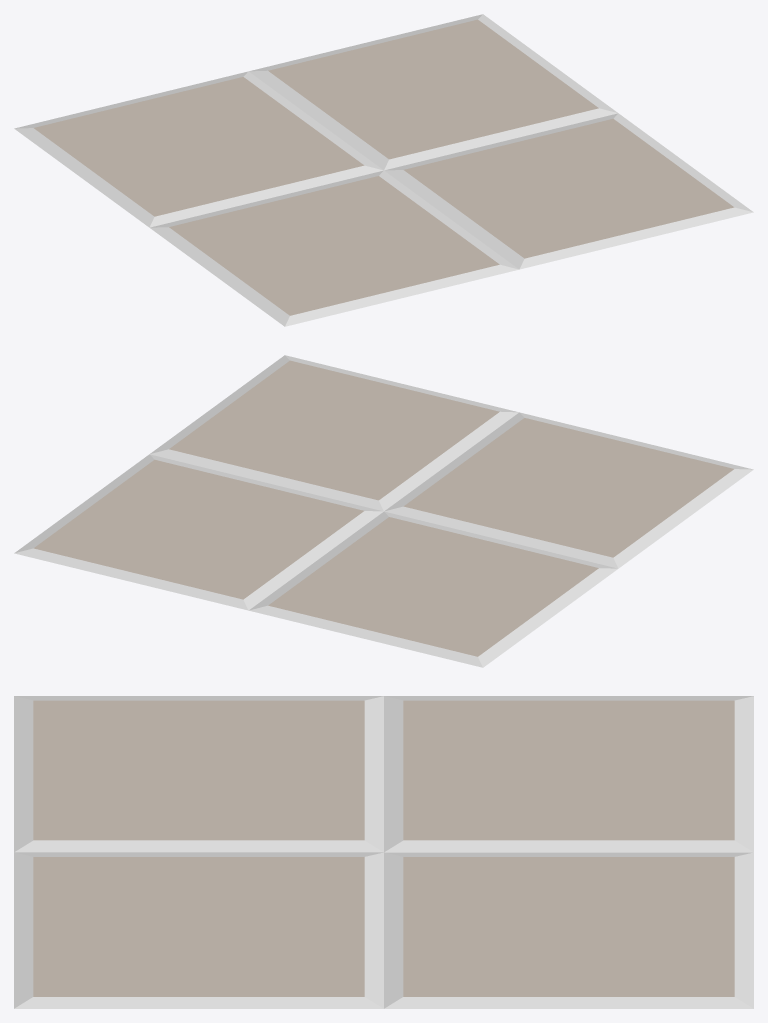
File: tiles.fbx
3 renders of one model, top to bottom at view 1: azimuth 30°, elevation 25°; view 2: azimuth 150°, elevation 25°; view 3: azimuth 270°, elevation 25°, orthographic. The views are drawn at different scales.
Visible parts, largest first — view 1: Plane; view 2: Plane; view 3: Plane.
Boxes of the visible parts, left/top/right/bottom form: Plane: left=14, top=14, right=753, bottom=326; Plane: left=14, top=355, right=753, bottom=667; Plane: left=14, top=696, right=753, bottom=1008.
Size of the model in its own units: 400 by 2.26 by 400.
